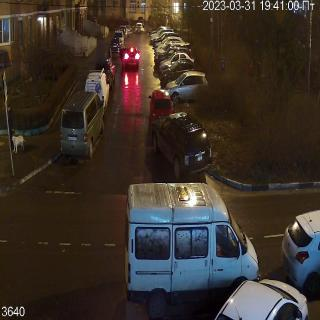Car: (124, 181, 259, 319), (151, 111, 211, 180), (214, 278, 308, 320), (281, 208, 320, 298), (60, 90, 104, 159), (165, 70, 209, 105), (84, 68, 110, 116), (148, 89, 173, 125), (95, 57, 115, 90), (119, 45, 141, 69), (110, 37, 120, 55), (136, 22, 144, 34), (137, 16, 144, 28), (90, 17, 97, 22)
